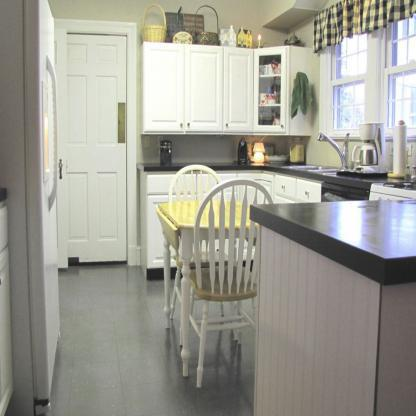door: (64, 32, 131, 264)
